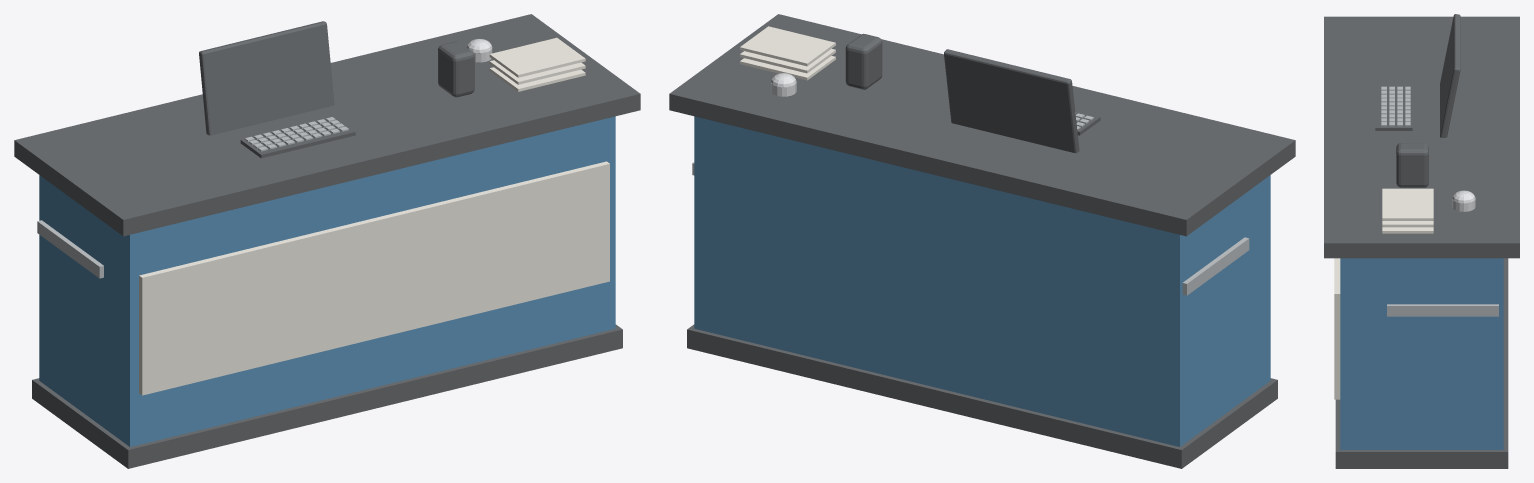
The model's file is reception-desk.glb.
3 views of the same model, side by side, from view 1: azimuth 30°, elevation 25°; view 2: azimuth 150°, elevation 25°; view 3: azimuth 270°, elevation 25° (orthographic). The views are drawn at different scales.
Parts seen in each view (by area): view 1: car-repair-garage-and-mot-workshop-reception-counter; view 2: car-repair-garage-and-mot-workshop-reception-counter; view 3: car-repair-garage-and-mot-workshop-reception-counter.
Boxes of the visible parts, box(x1,y1,x2,y2) form: car-repair-garage-and-mot-workshop-reception-counter: box(14, 14, 640, 468); car-repair-garage-and-mot-workshop-reception-counter: box(669, 14, 1295, 468); car-repair-garage-and-mot-workshop-reception-counter: box(1324, 14, 1519, 468).
Size of the model in its own units: 2.3 by 1.42 by 0.8399.
